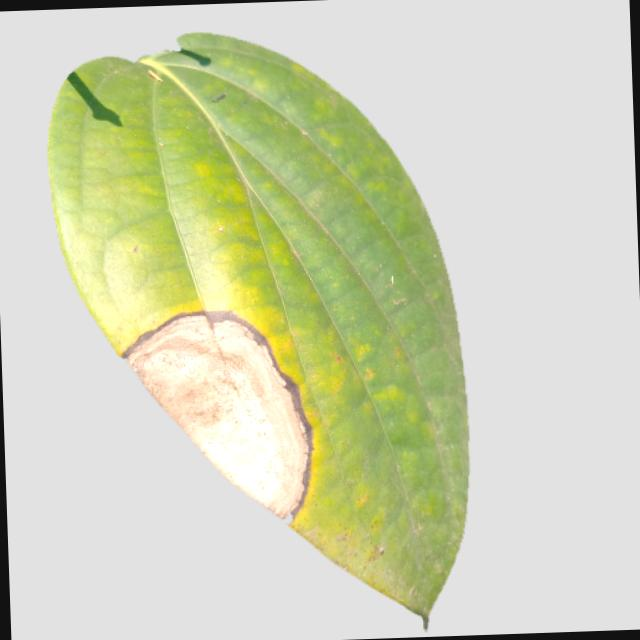leaf-blight: (28, 33, 478, 638)
